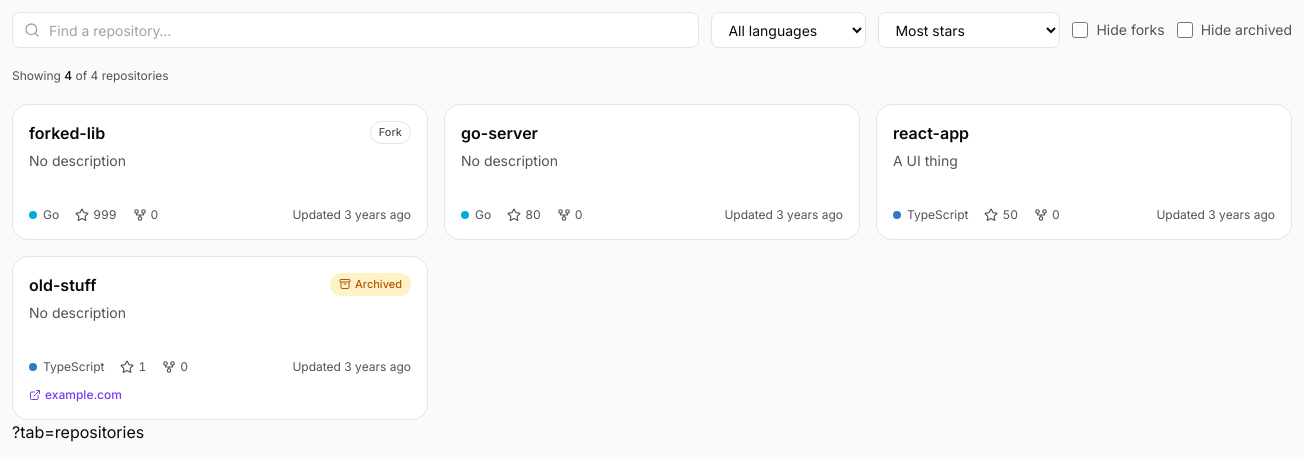
RepoExplorer › filters by text query and writes it to the URL
Type "ui thing" into the search field named "filter repositories".
click(356, 30); type("ui thing")  # box [12,12,699,48]
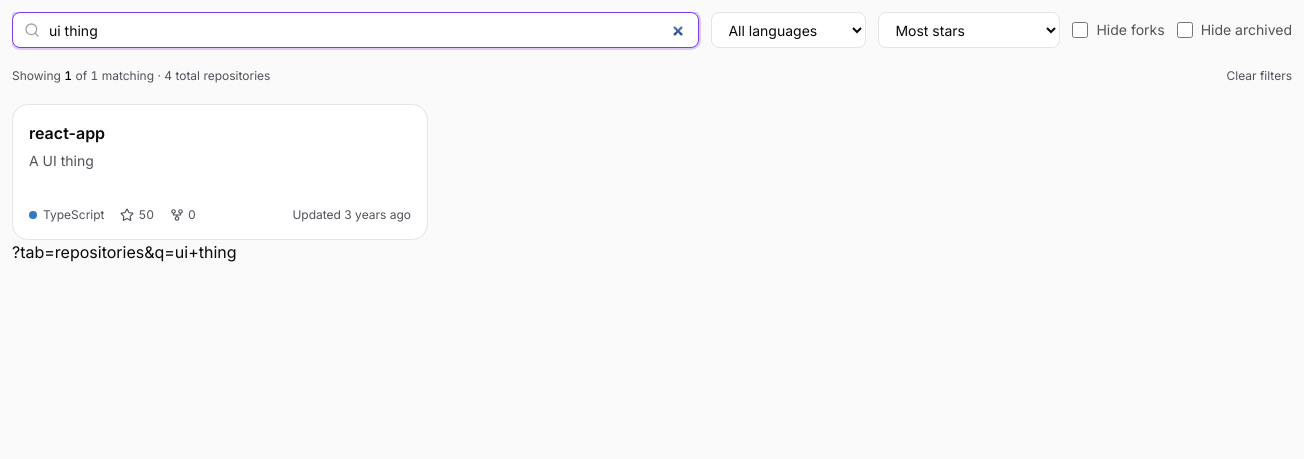
Check: the text with test id "search" shows "q=ui+thing", box [12,242,237,262]
